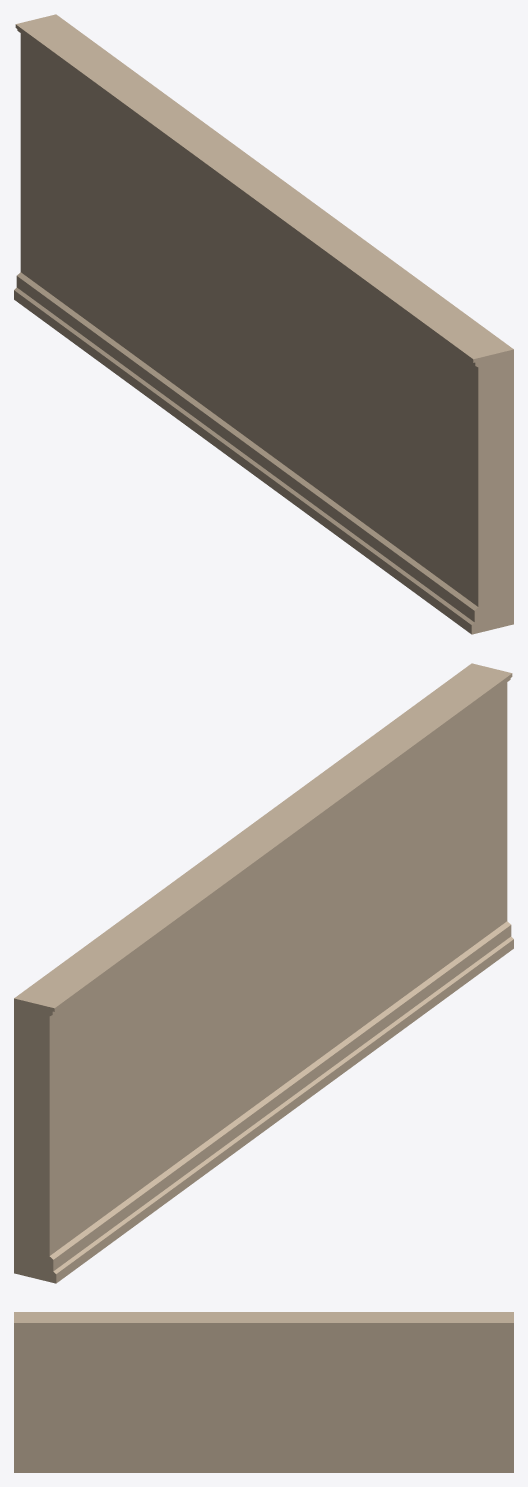
File: BC_Wall_F.fbx
3 renders of one model, top to bottom at view 1: azimuth 30°, elevation 25°; view 2: azimuth 150°, elevation 25°; view 3: azimuth 270°, elevation 25°, orthographic. The views are drawn at different scales.
Visible parts, largest first — view 1: BC_Wall_F; view 2: BC_Wall_F; view 3: BC_Wall_F.
Boxes of the visible parts, x1,y1,x2,y2 form: BC_Wall_F: [14, 14, 513, 634]; BC_Wall_F: [14, 663, 513, 1283]; BC_Wall_F: [14, 1312, 513, 1472].
Bounding box in the file's own units: 283 × 1761 × 5313.
